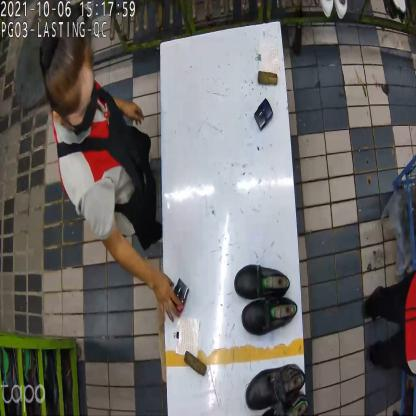shoes: (233, 263, 299, 335), (244, 360, 310, 415)
stamp: (254, 97, 274, 131), (170, 277, 189, 308)
